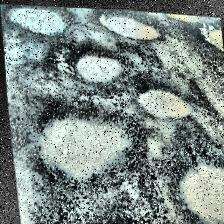pothole: (7, 100, 134, 190), (170, 147, 224, 224), (133, 81, 193, 121), (0, 2, 66, 38), (98, 7, 162, 44), (68, 46, 124, 85), (202, 13, 224, 50), (161, 11, 201, 23)
